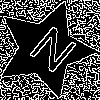N: (20, 24, 79, 82)
